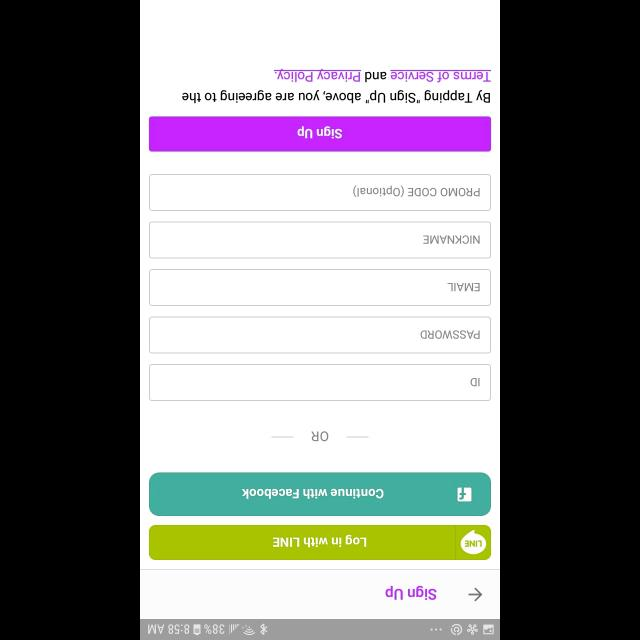icon: (468, 587, 482, 601)
input: (150, 268, 490, 306), (149, 173, 491, 210), (149, 364, 491, 401), (149, 222, 491, 258), (150, 316, 490, 352)
text: (182, 68, 490, 104), (352, 185, 480, 197), (384, 584, 436, 600), (420, 329, 480, 338), (422, 236, 480, 244), (448, 282, 480, 292), (312, 431, 328, 441), (469, 378, 478, 387)
textbutton: (150, 472, 490, 516), (149, 116, 491, 152), (149, 524, 491, 560)
uppertaskbar: (140, 618, 500, 640)
